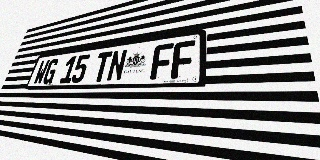1: (59, 56, 78, 83)
5: (70, 54, 90, 83)
F: (171, 40, 195, 79), (150, 43, 174, 80)
G: (41, 58, 60, 84)
N: (106, 49, 128, 82)
T: (92, 51, 113, 82)
W: (32, 60, 50, 84)
